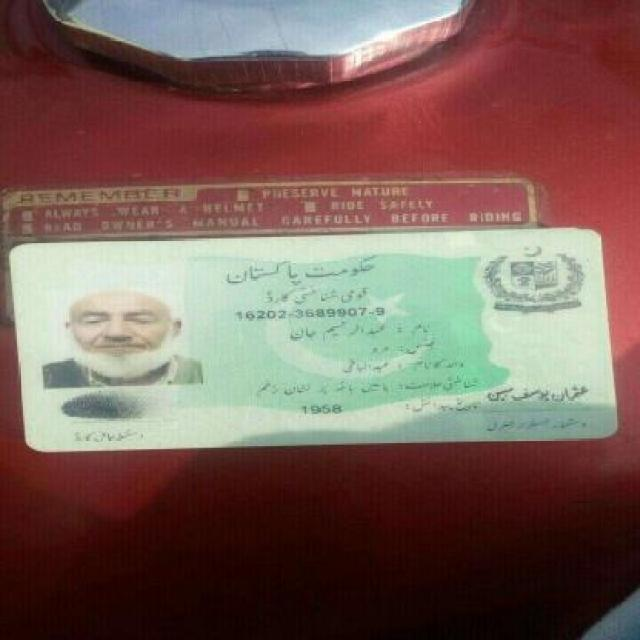Front: (3, 230, 639, 452)
